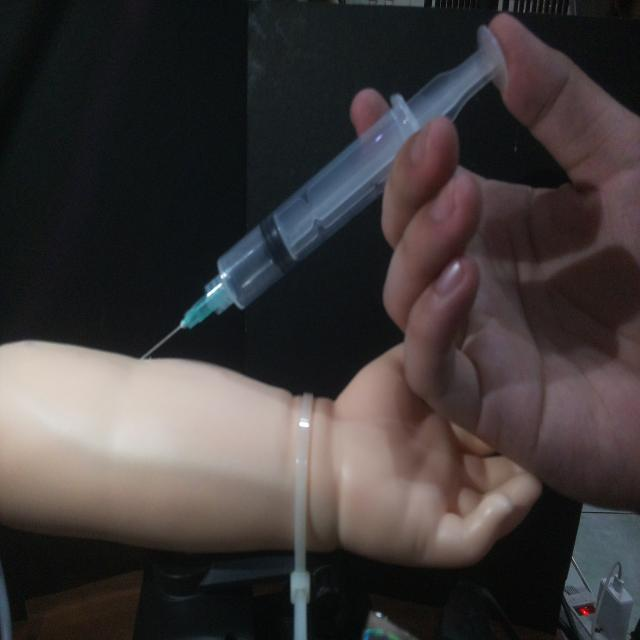29deg: (135, 21, 512, 362)
